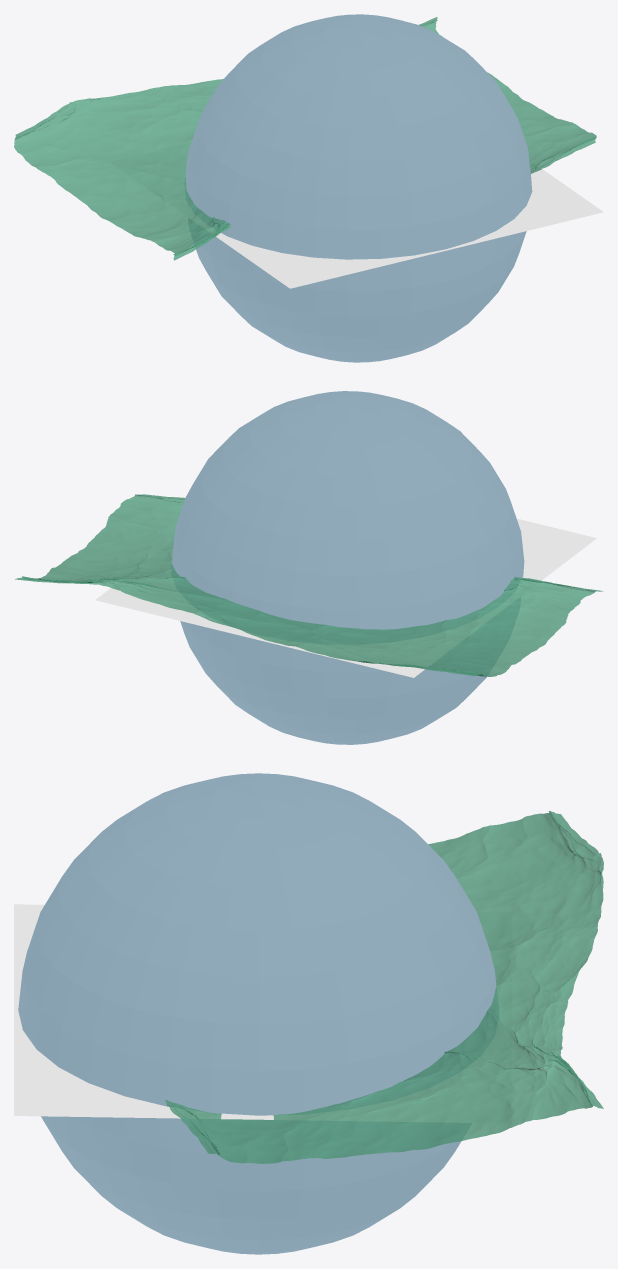
Rendered from telpa5.glb.
3 views of the same model, one above another, from view 1: azimuth 30°, elevation 25°; view 2: azimuth 150°, elevation 25°; view 3: azimuth 270°, elevation 25° (orthographic). The views are drawn at different scales.
Parts seen in each view (by area): view 1: Sphere, Grid, Plane; view 2: Sphere, Grid, Plane; view 3: Sphere, Grid, Plane.
Part boxes in pixels (x1,y1,x2,y2): Sphere: [185, 14, 532, 362]; Grid: [14, 17, 596, 260]; Plane: [111, 143, 603, 288]; Sphere: [171, 391, 524, 744]; Grid: [15, 494, 603, 676]; Plane: [95, 518, 596, 677]; Sphere: [18, 773, 498, 1254]; Grid: [165, 811, 603, 1163]; Plane: [14, 904, 511, 1122].
Size of the model in its own units: 23.55 by 15.05 by 18.43.
